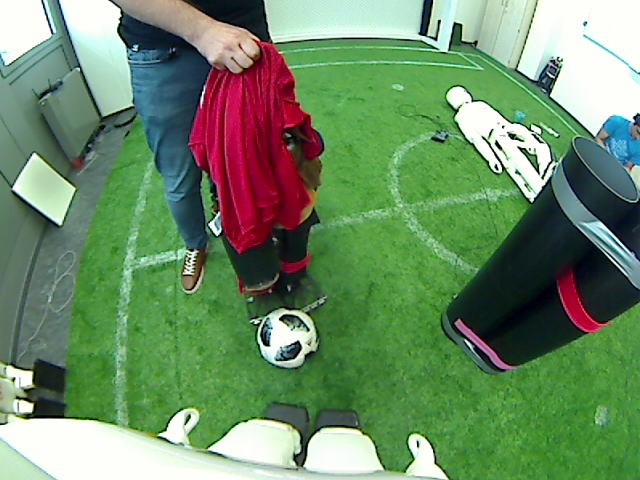ball: (267, 321, 307, 354)
goalpost: (437, 13, 452, 53)
robot: (460, 308, 500, 361), (263, 241, 294, 309), (23, 358, 75, 393), (518, 145, 553, 192)
